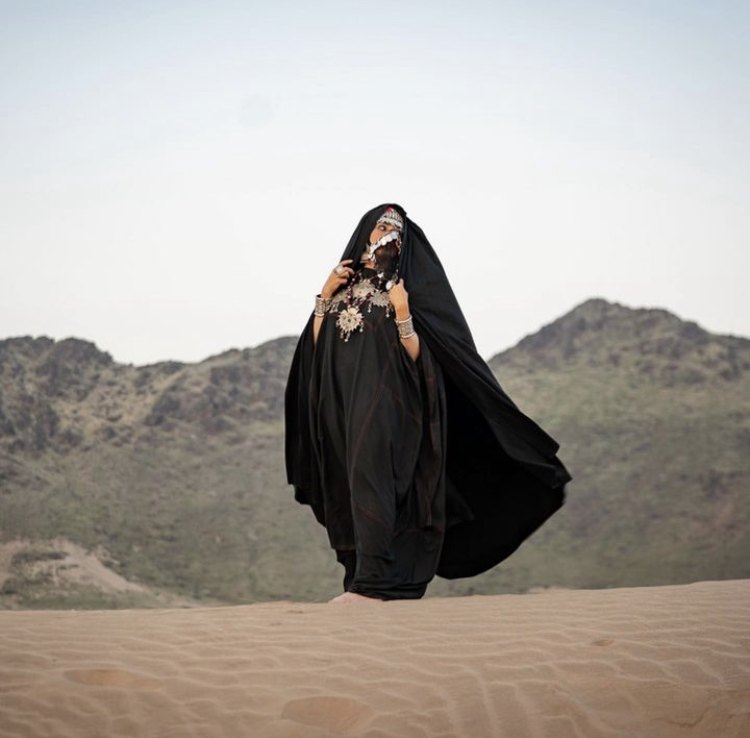Saudi_Founding_Day: (281, 200, 575, 604)
